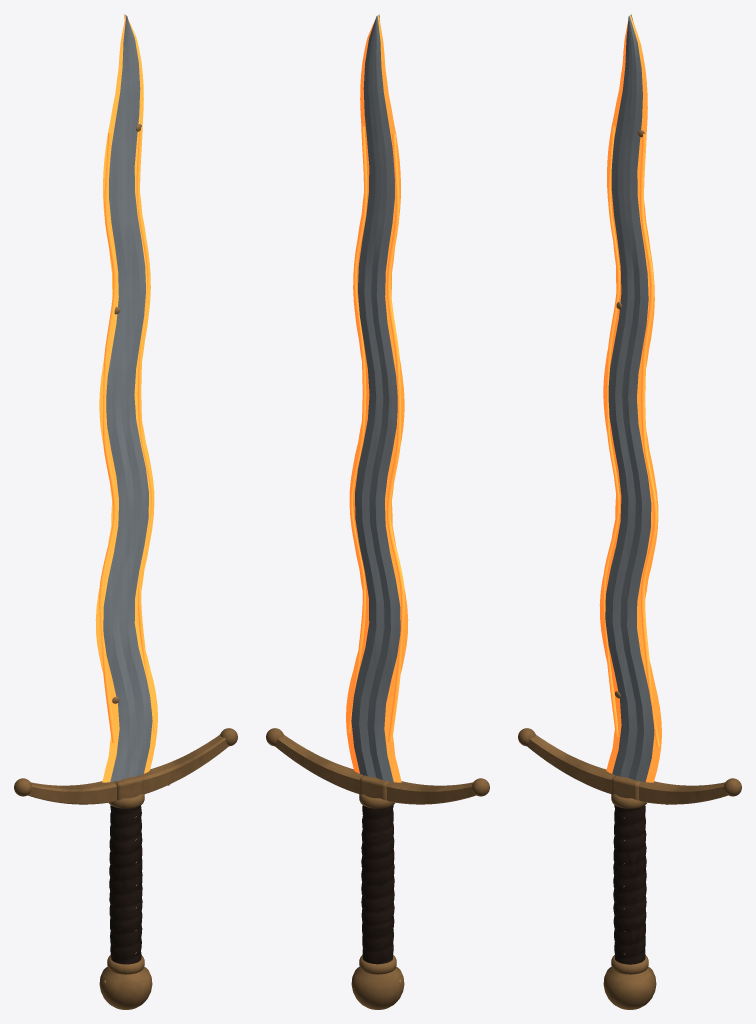
File: flame-sword.glb
3 renders of one model, left to right at view 1: azimuth 30°, elevation 25°; view 2: azimuth 150°, elevation 25°; view 3: azimuth 330°, elevation 25°, orthographic.
Visible parts, largest first — view 1: steel / forged blade steel, energy / emissive field channel, bronze / cast bronze with patina, leather / oiled leather wrap; view 2: steel / forged blade steel, energy / emissive field channel, bronze / cast bronze with patina, leather / oiled leather wrap; view 3: steel / forged blade steel, energy / emissive field channel, bronze / cast bronze with patina, leather / oiled leather wrap.
Boxes of the visible parts, x1,y1,x2,y2 form: steel / forged blade steel: (103, 14, 152, 781); energy / emissive field channel: (95, 15, 157, 782); bronze / cast bronze with patina: (14, 728, 237, 1009); leather / oiled leather wrap: (109, 805, 142, 964); steel / forged blade steel: (351, 14, 400, 781); energy / emissive field channel: (346, 15, 408, 782); bronze / cast bronze with patina: (266, 728, 489, 1009); leather / oiled leather wrap: (361, 805, 394, 964); steel / forged blade steel: (605, 14, 654, 781); energy / emissive field channel: (599, 15, 661, 782); bronze / cast bronze with patina: (518, 728, 741, 1009); leather / oiled leather wrap: (613, 805, 646, 964).
Size of the model in its own units: 0.2798 by 1.2 by 0.0578.
6 materials, 3 textured.
